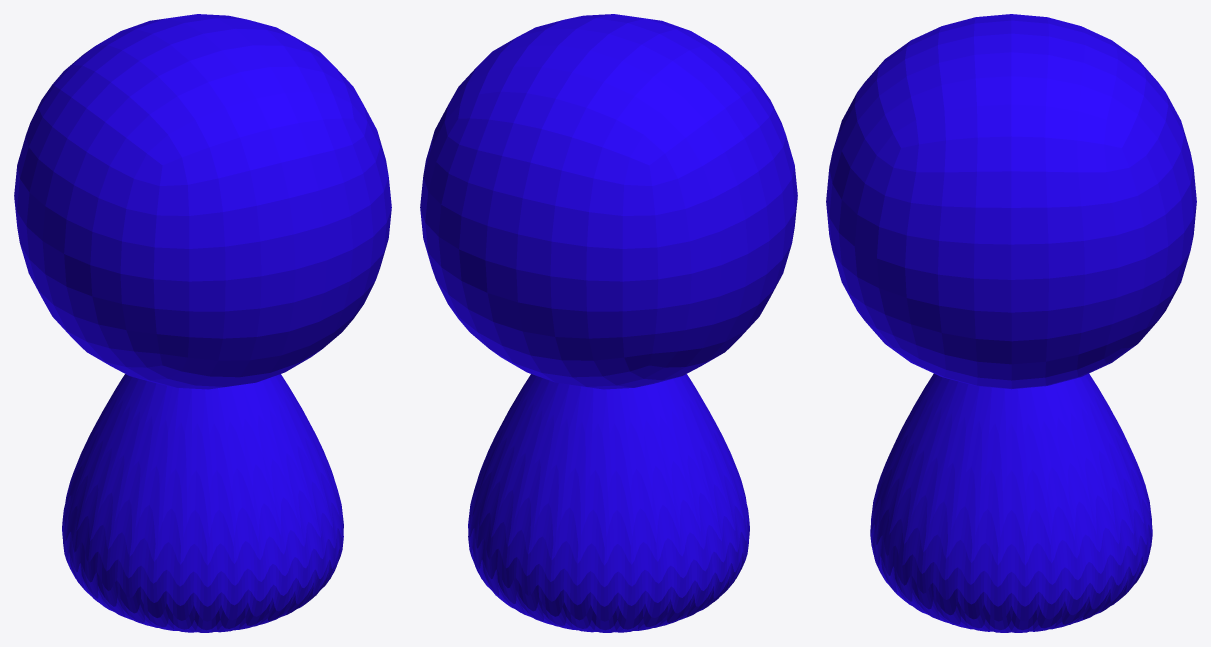
File: Target Blue.fbx
3 views of the same model, side by side, from view 1: azimuth 30°, elevation 25°; view 2: azimuth 150°, elevation 25°; view 3: azimuth 270°, elevation 25° (orthographic).
Parts seen in each view (by area): view 1: Cube; view 2: Cube; view 3: Cube.
Boxes of the visible parts, <box> form: Cube: <box>14,14,391,632</box>; Cube: <box>420,14,797,632</box>; Cube: <box>826,14,1196,632</box>.
Size of the model in its own units: 168 by 292 by 168.
1 material, 1 textured.
